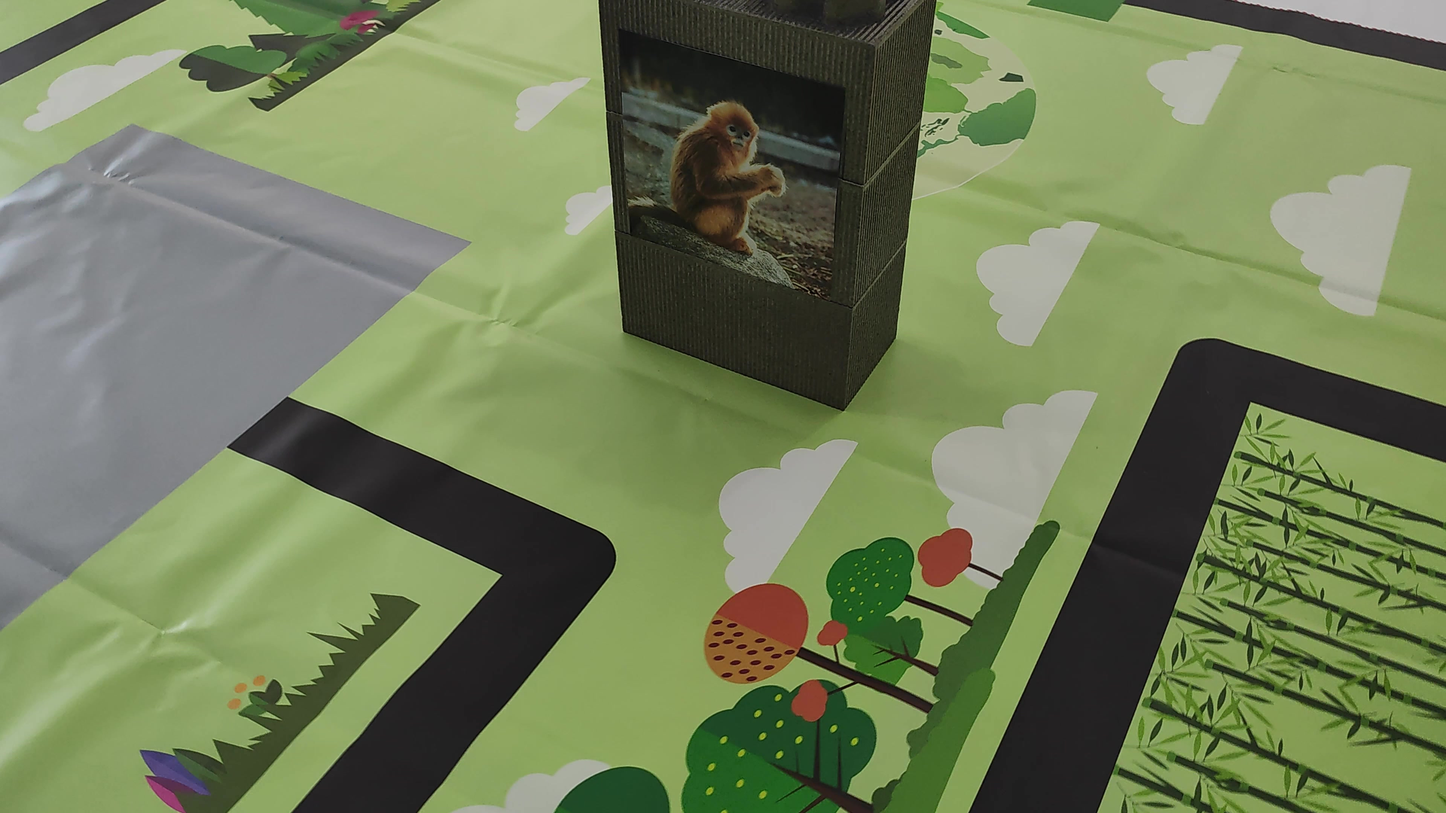monkey: (628, 80, 793, 248)
